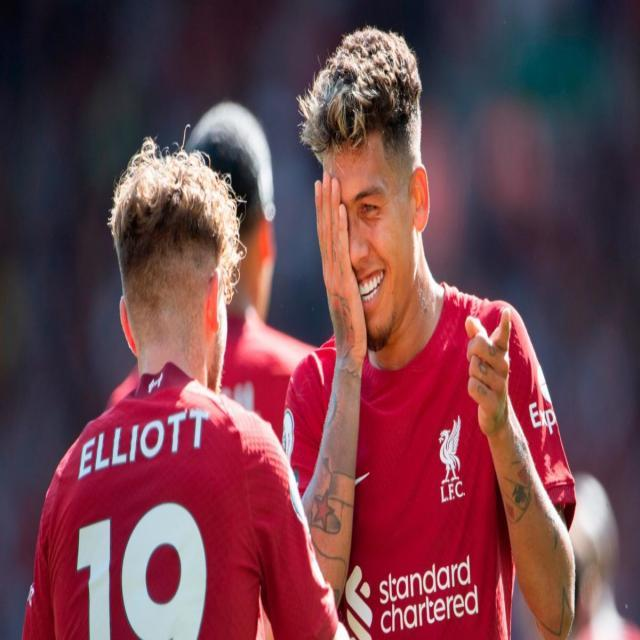Standard Chartered: (346, 551, 480, 640)
